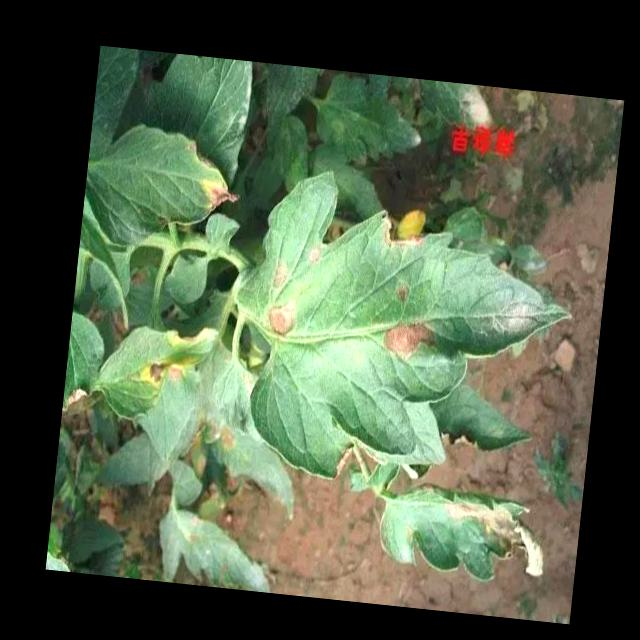Early_blight: (440, 500, 549, 578), (378, 314, 438, 368), (376, 208, 428, 256), (197, 179, 243, 219), (145, 351, 189, 390), (264, 294, 300, 341), (332, 442, 356, 480), (270, 256, 290, 290), (304, 244, 323, 270)
